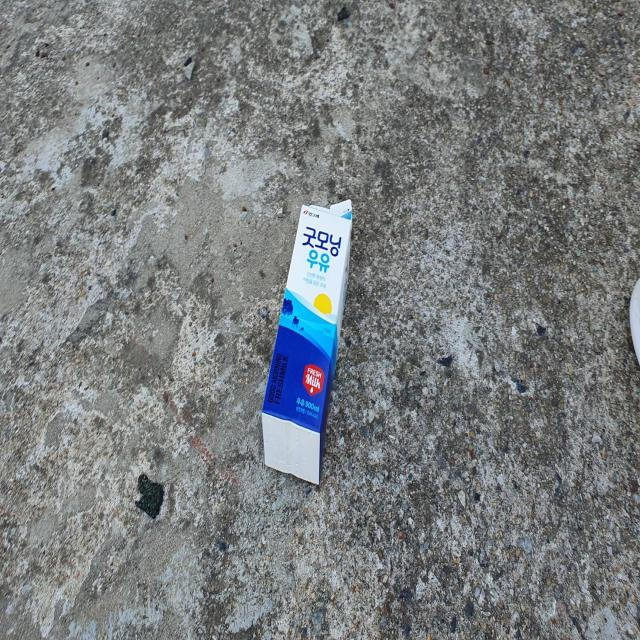paperpack: (262, 199, 353, 484)
